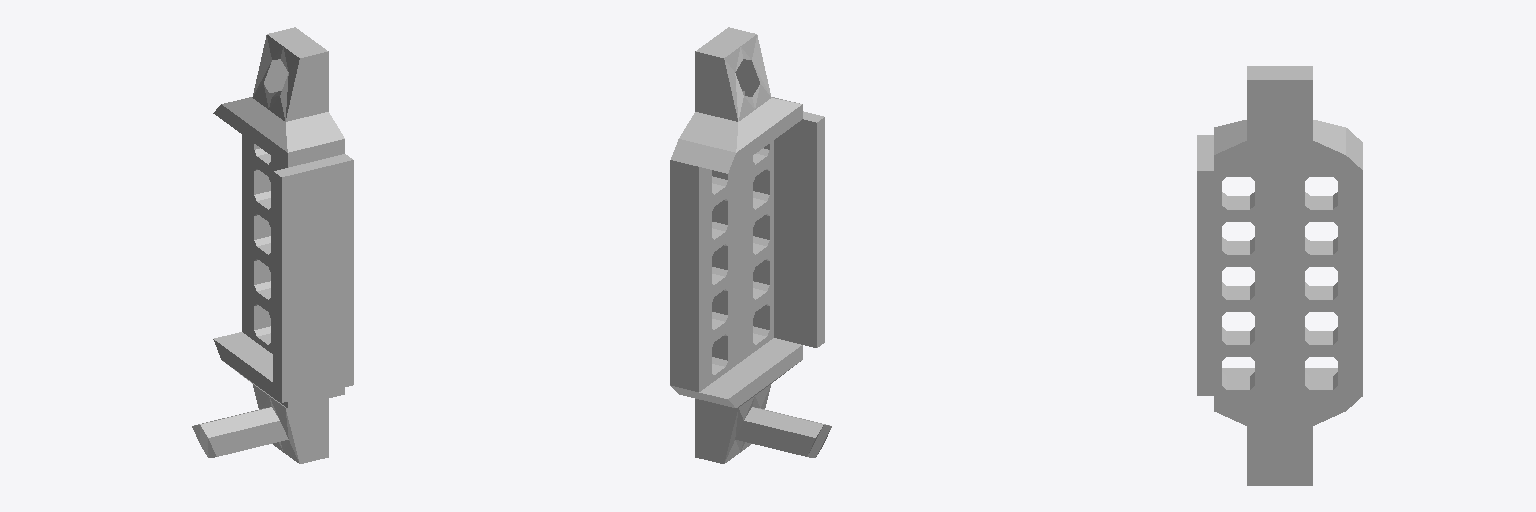
Rendered from firstarm.obj.
The picture shows the model from 3 angles: view 1: azimuth 30°, elevation 25°; view 2: azimuth 150°, elevation 25°; view 3: azimuth 270°, elevation 25°; orthographic projection.
Parts seen in each view (by area): view 1: FIRSTARM_mesh.002; view 2: FIRSTARM_mesh.002; view 3: FIRSTARM_mesh.002.
Part boxes in pixels (x1,y1,x2,y2): FIRSTARM_mesh.002: (192, 27, 353, 463); FIRSTARM_mesh.002: (670, 27, 831, 463); FIRSTARM_mesh.002: (1197, 66, 1362, 485).
Size of the model in its own units: 0.78 by 2.7 by 1.